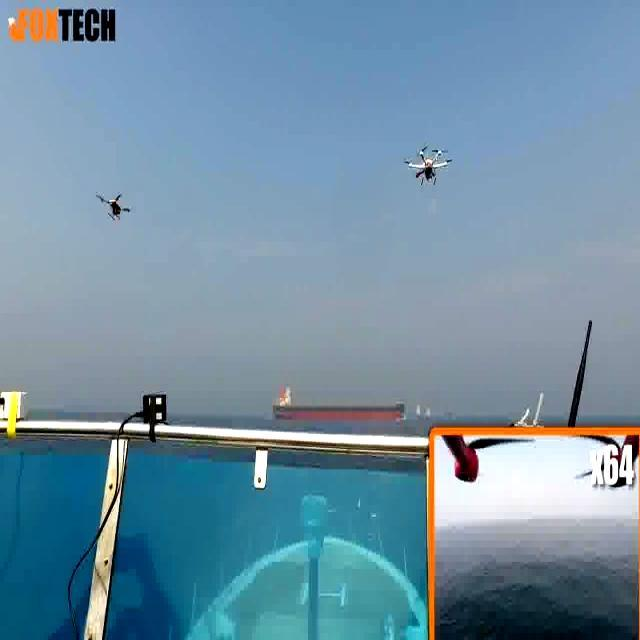drone: (400, 137, 454, 197), (96, 191, 132, 225)
